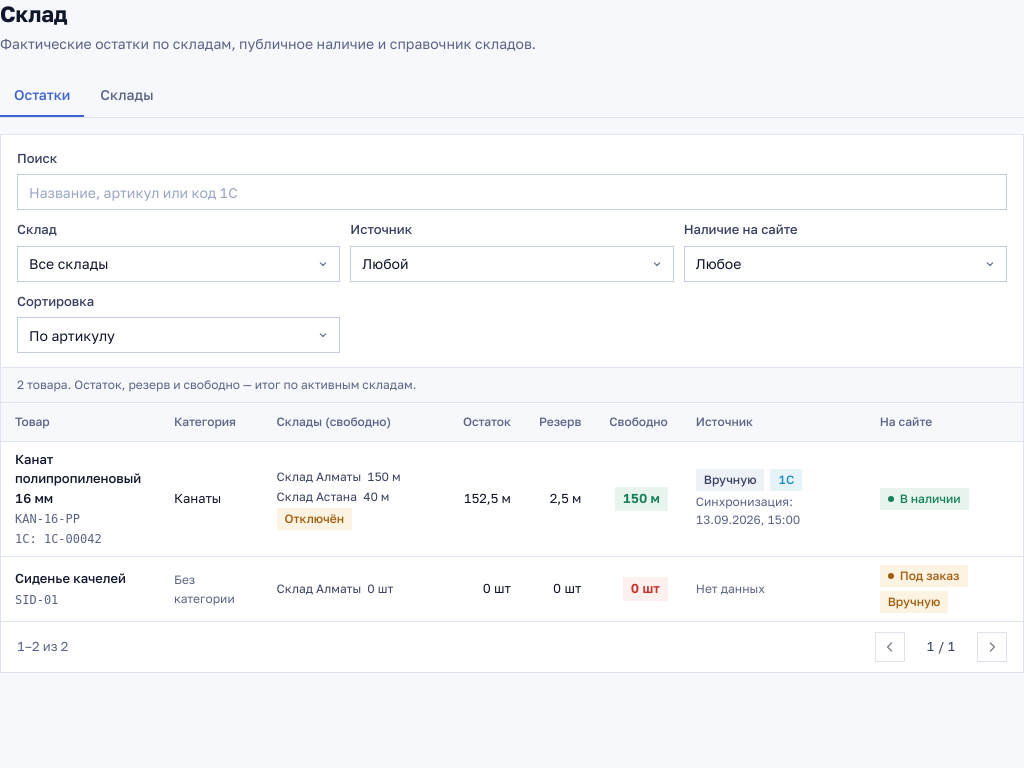
Test: правка остатков в панели › 403 при сохранении не маскируется
Click the button "Канат полипропиленовый 16 мм" at (80, 479), box x1=15 y1=450 x2=146 y2=508
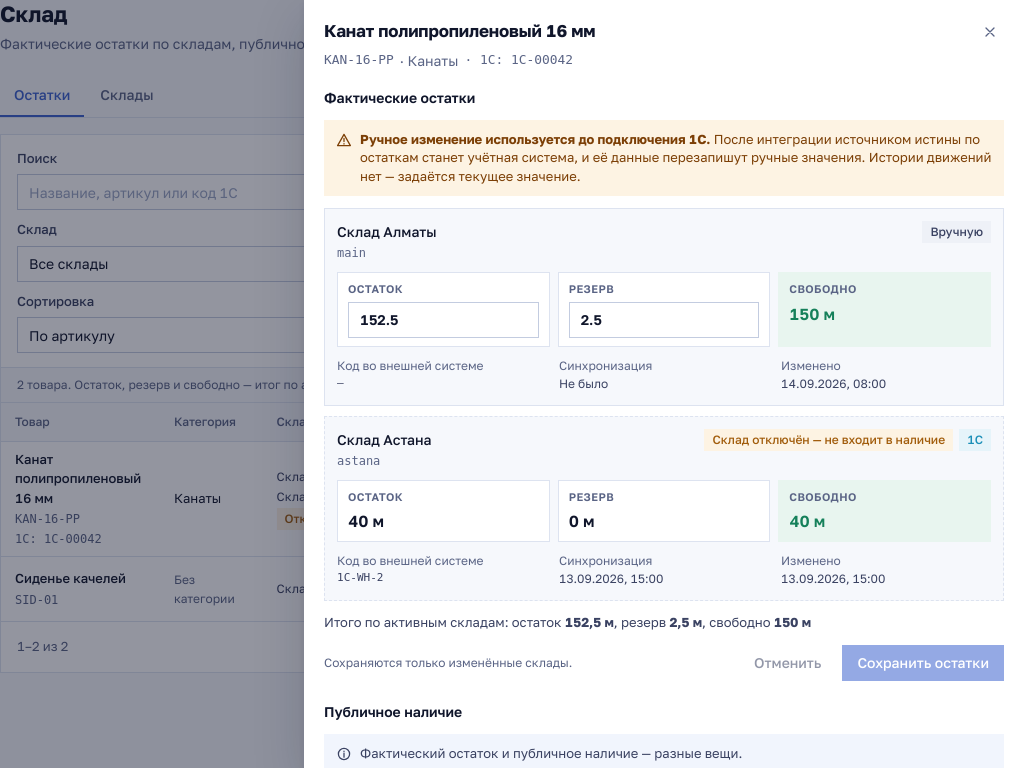
Expected: the text "Фактические остатки" is shown, x1=324 y1=88 x2=475 y2=106
Expected: the list item with aria-label "Склад «Склад Алматы»" is shown, x1=324 y1=208 x2=1004 y2=406
Type "1" into the 1st field named "Остаток, м" at (443, 320), box x1=348 y1=302 x2=539 y2=338
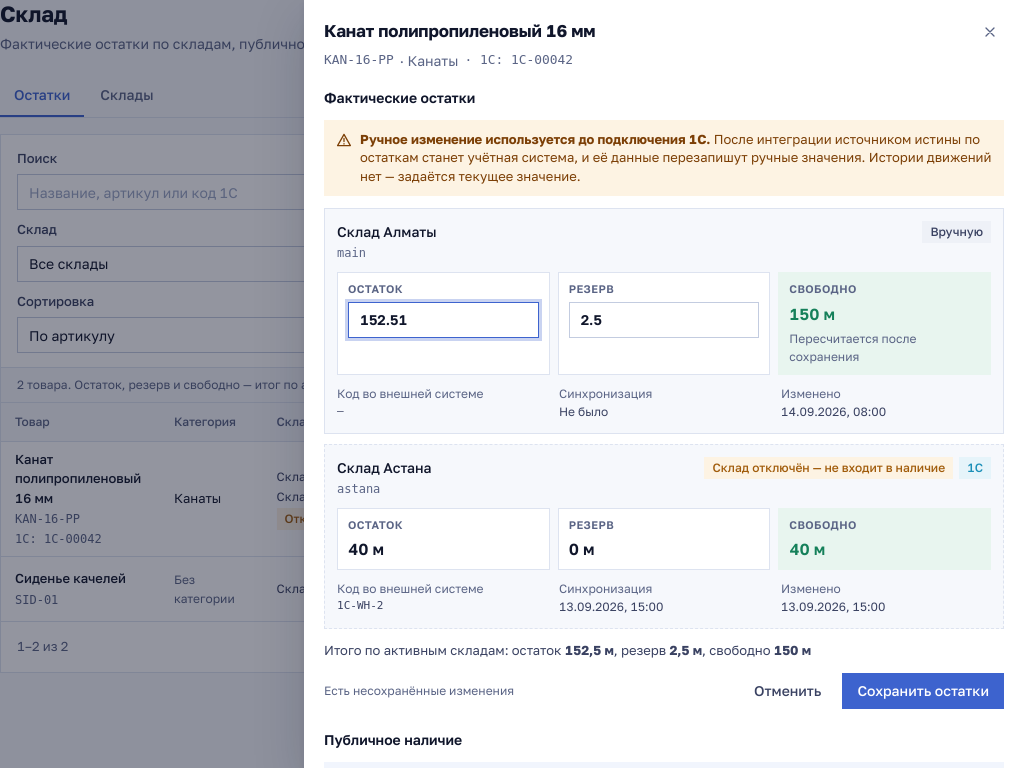
Click the button "Сохранить остатки" at (923, 690), box x1=842 y1=672 x2=1004 y2=708
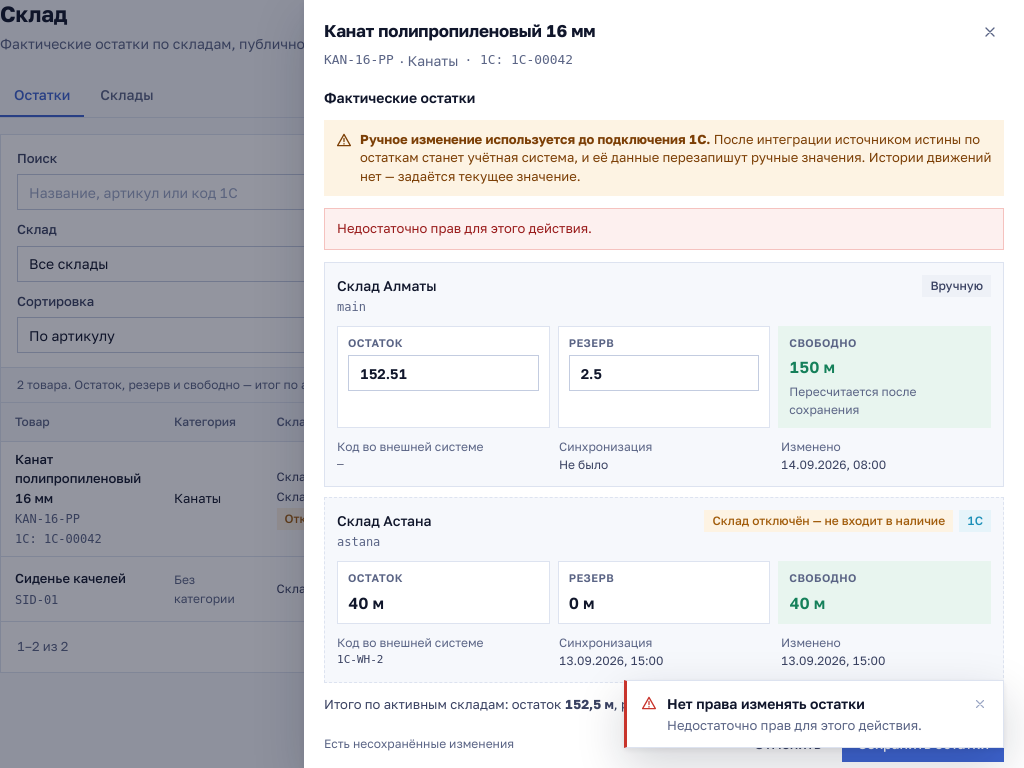
Expected: the text "Нет права изменять остатки" is shown, x1=667 y1=694 x2=865 y2=712
